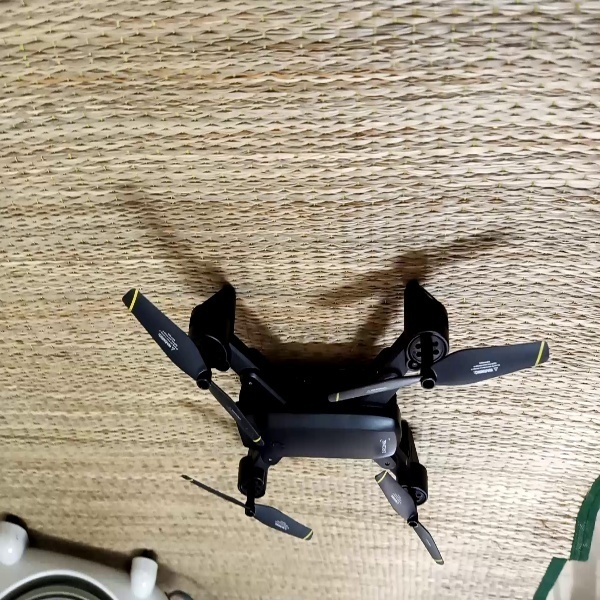drone: (119, 279, 553, 567)
